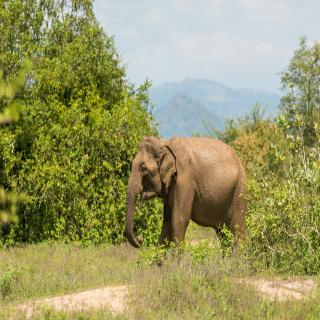Elephant: (124, 133, 262, 258)
